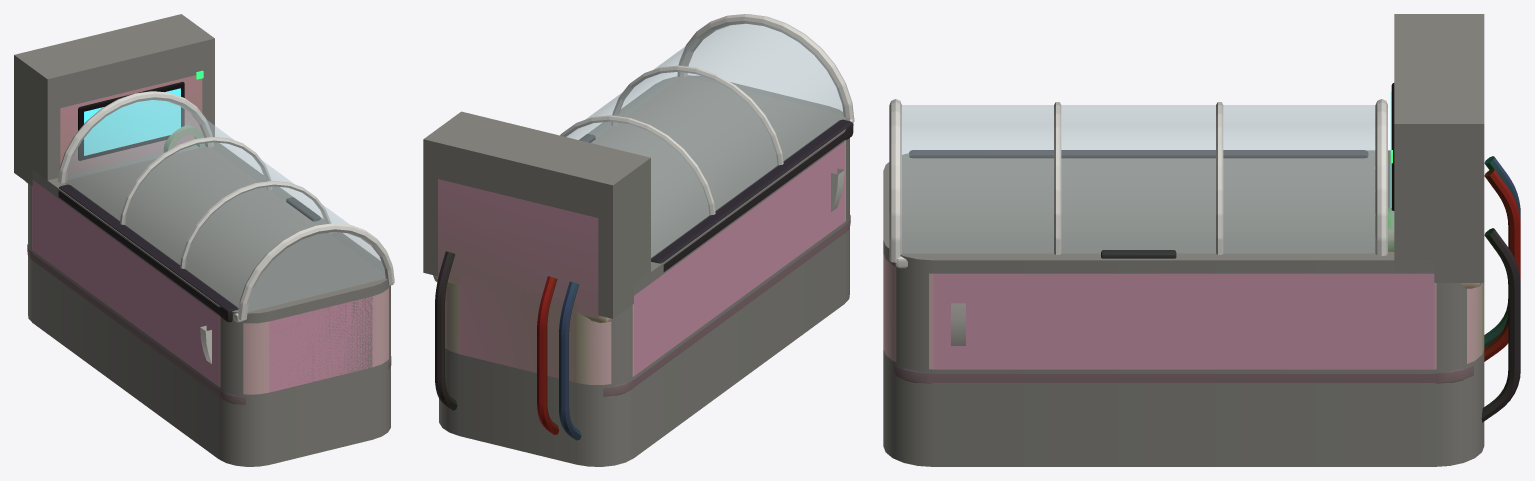
File: halcyon_pod.glb
3 renders of one model, left to right at view 1: azimuth 30°, elevation 25°; view 2: azimuth 150°, elevation 25°; view 3: azimuth 270°, elevation 25°, orthographic. The views are drawn at different scales.
Visible parts, largest first — view 1: hpod_col__m, hpod_body__m, hpod_canopy_glass__m, hpod_canopy__m; view 2: hpod_col__m, hpod_body__m, hpod_canopy_glass__m, hpod_canopy__m; view 3: hpod_col__m, hpod_canopy_glass__m, hpod_body__m, hpod_canopy__m, hpod_scanner__m.
Part boxes in pixels (<box>): hpod_col__m: <box>14,14,390,466</box>; hpod_body__m: <box>26,75,391,404</box>; hpod_canopy_glass__m: <box>65,97,385,311</box>; hpod_canopy__m: <box>58,91,394,322</box>; hpod_col__m: <box>423,75,849,466</box>; hpod_body__m: <box>433,119,853,440</box>; hpod_canopy_glass__m: <box>564,21,845,258</box>; hpod_canopy__m: <box>560,14,854,215</box>; hpod_col__m: <box>883,14,1484,466</box>; hpod_canopy_glass__m: <box>902,105,1375,253</box>; hpod_body__m: <box>883,83,1520,422</box>; hpod_canopy__m: <box>889,99,1387,268</box>; hpod_scanner__m: <box>951,303,965,345</box>.
Bounding box in the file's own units: 1.12 × 1.51 × 2.54.
